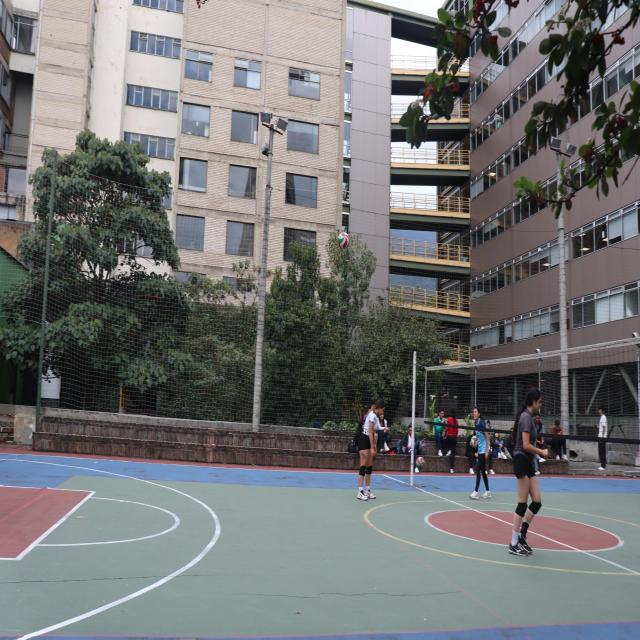volleyball: (415, 456, 425, 469), (471, 436, 478, 448)
